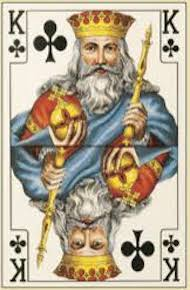KingOfClubs: (1, 1, 187, 289)
